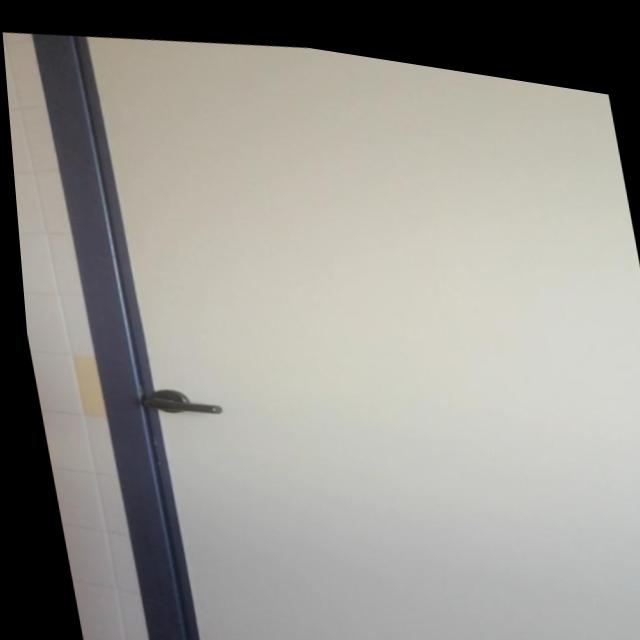door_handle: (125, 381, 218, 419)
